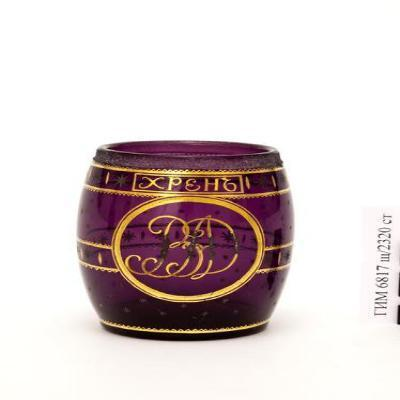dpi: (75, 140, 294, 342)
